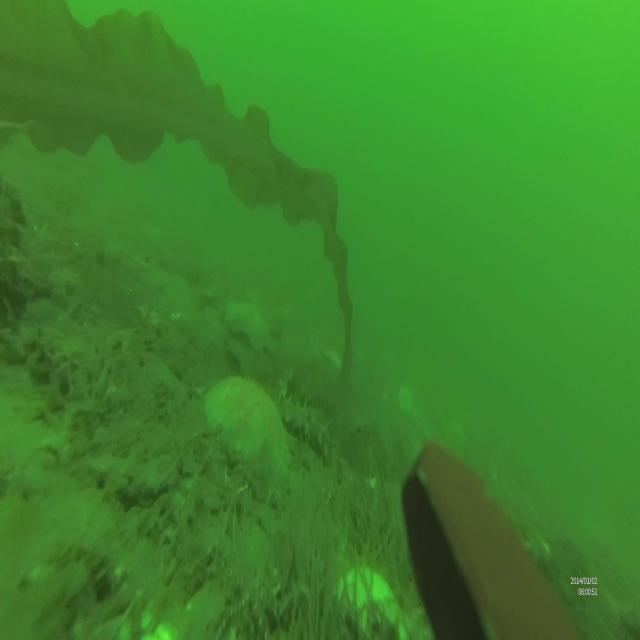holothurian: (281, 387, 336, 462)
starfish: (205, 372, 289, 470), (226, 296, 276, 358)
